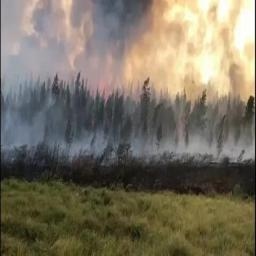Heavy smoke: (1, 0, 256, 171)
